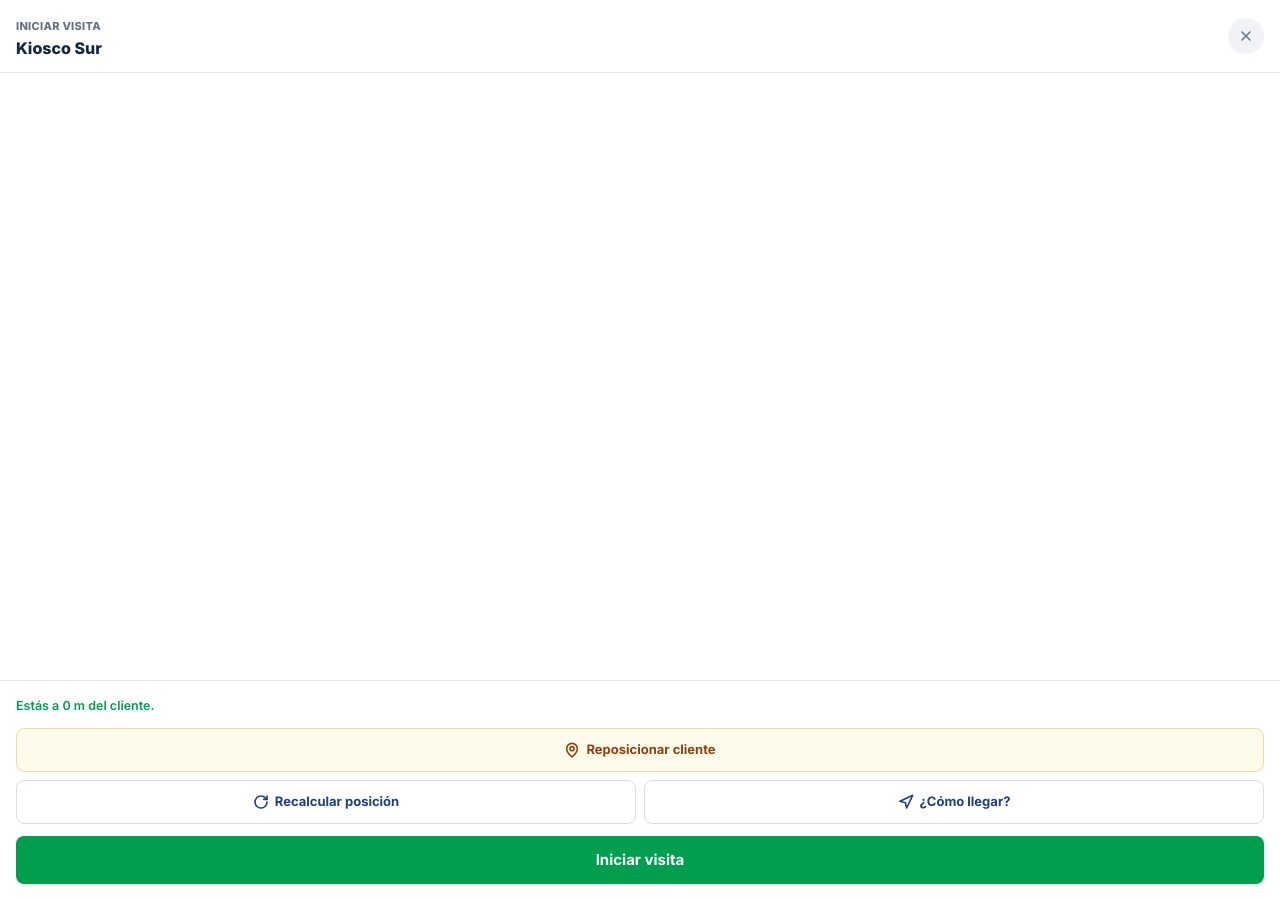
Test: mientras recalcula, no queda el ícono estático compitiendo con el spinner
Click the button "Recalcular posición". click: [326, 802]
box: [16,780,636,824]
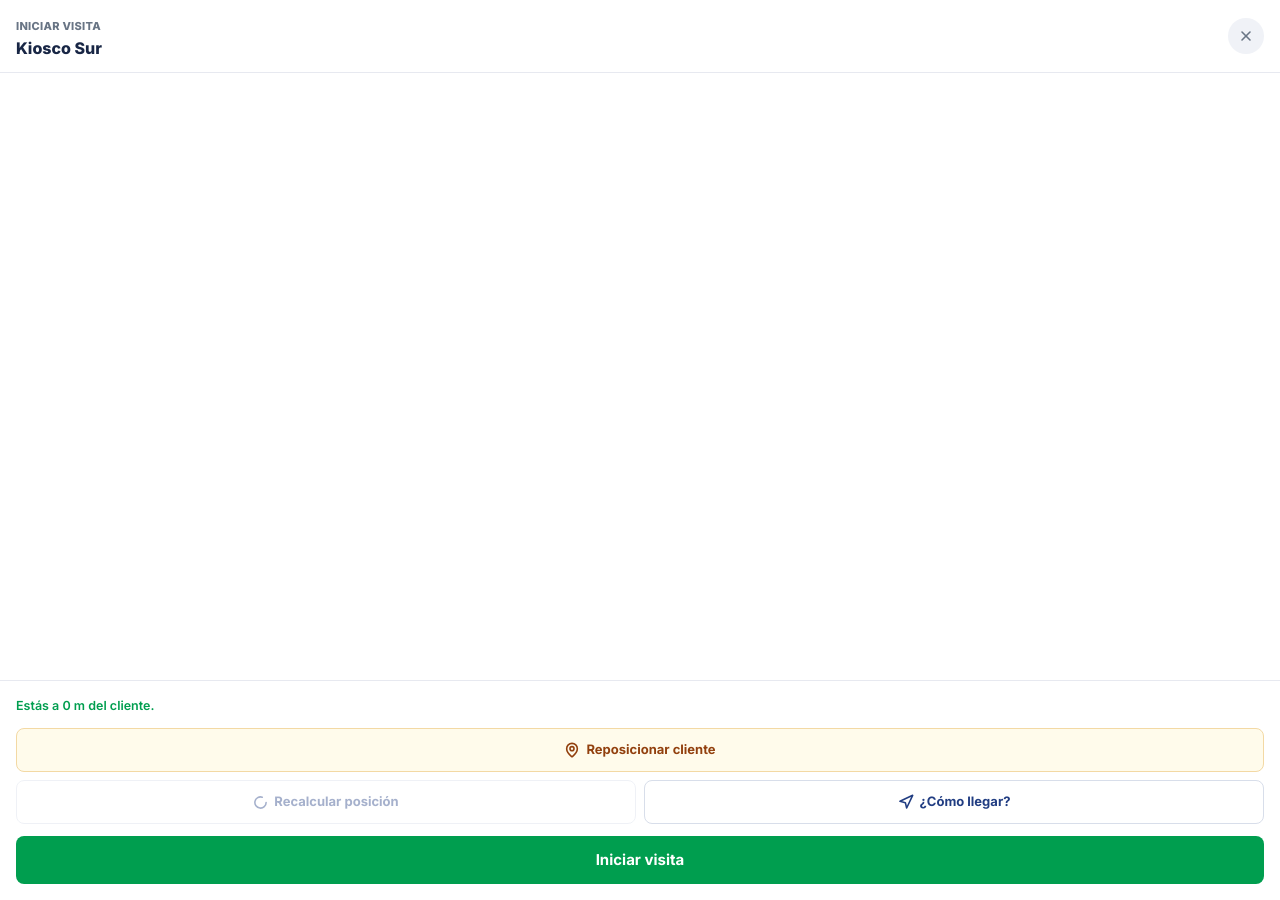
Expected: the icon with class "lucide-rotate-cw" is gone
